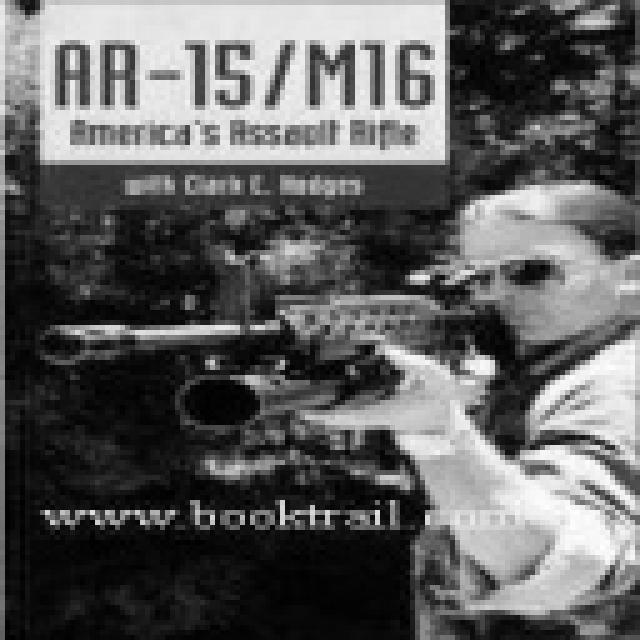Rifle: (0, 227, 574, 448)
